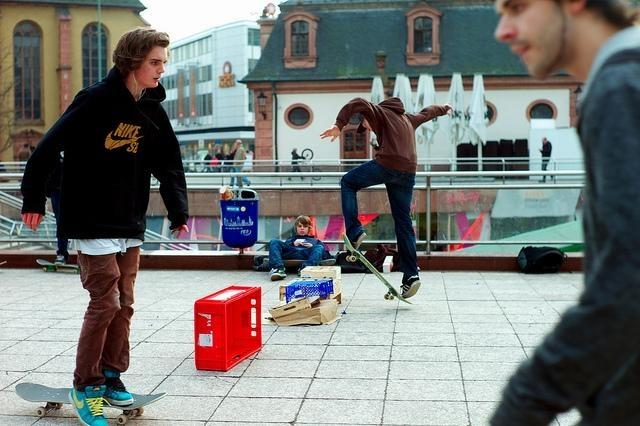bicycle: (300, 148, 324, 180)
